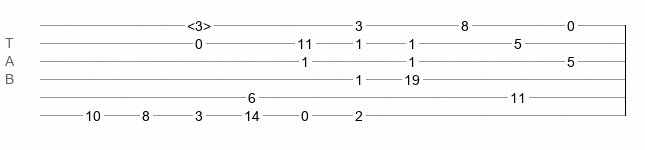0: (195, 36, 203, 46), (301, 108, 309, 118), (567, 18, 575, 28)
1: (301, 54, 309, 64), (355, 36, 363, 46), (355, 72, 363, 82), (408, 36, 416, 46), (408, 54, 416, 64)
10: (85, 108, 101, 118)
11: (297, 36, 313, 46), (510, 90, 526, 100)
14: (244, 108, 260, 118)
19: (404, 72, 420, 82)
2: (355, 108, 363, 118)
3: (195, 108, 203, 118), (355, 18, 363, 28)
5: (514, 36, 522, 46), (567, 54, 575, 64)
6: (248, 90, 256, 100)
8: (142, 108, 150, 118), (461, 18, 469, 28)
harmonic: (187, 18, 211, 28)
